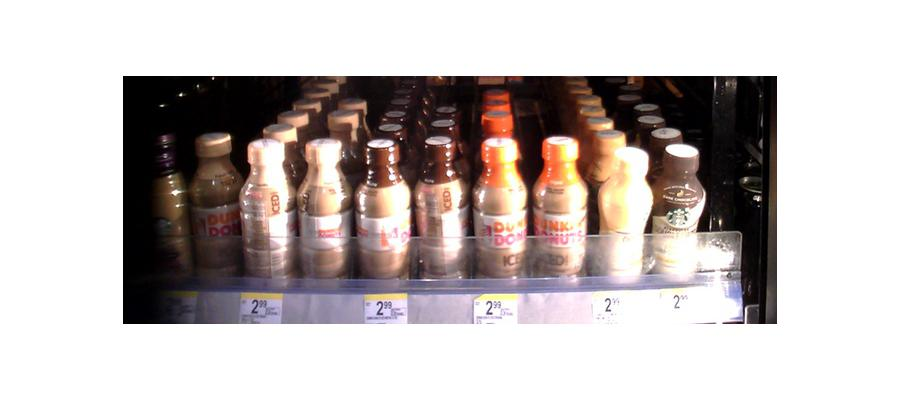bottle: (412, 125, 469, 281), (474, 116, 526, 286), (238, 127, 294, 282), (530, 134, 587, 283), (353, 134, 407, 284), (296, 136, 350, 281), (596, 138, 649, 277), (653, 140, 704, 278), (190, 129, 236, 277), (145, 134, 184, 279)
